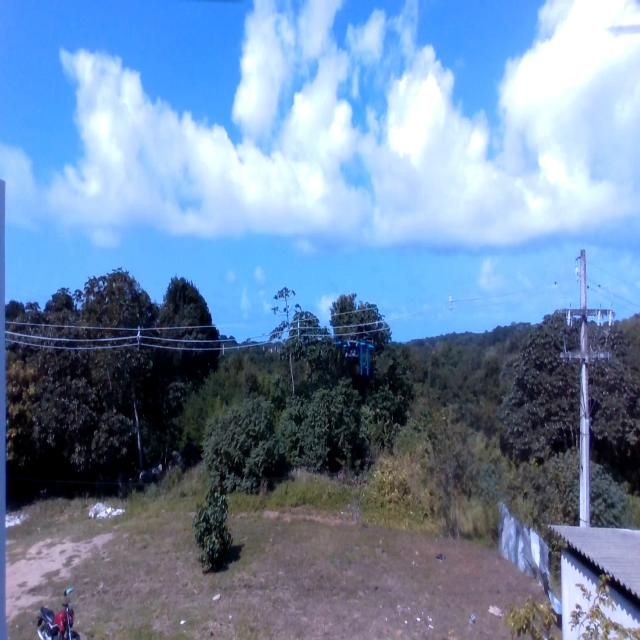-uav-: (323, 324, 383, 389)
